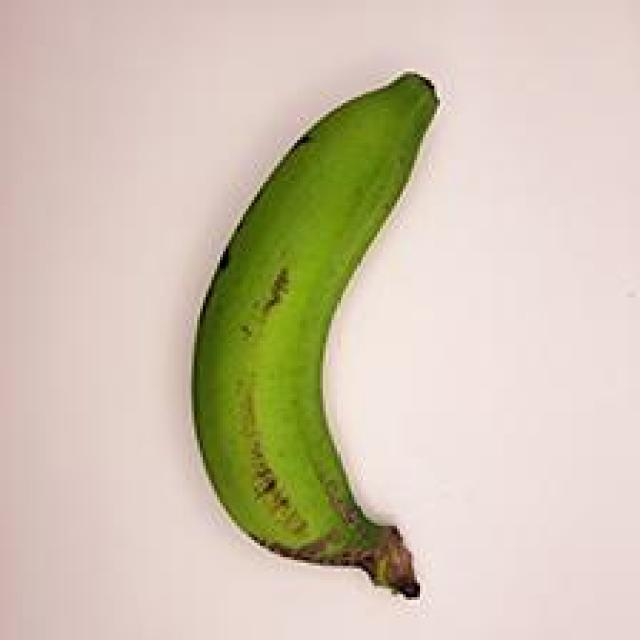Raw: (166, 60, 480, 617)
